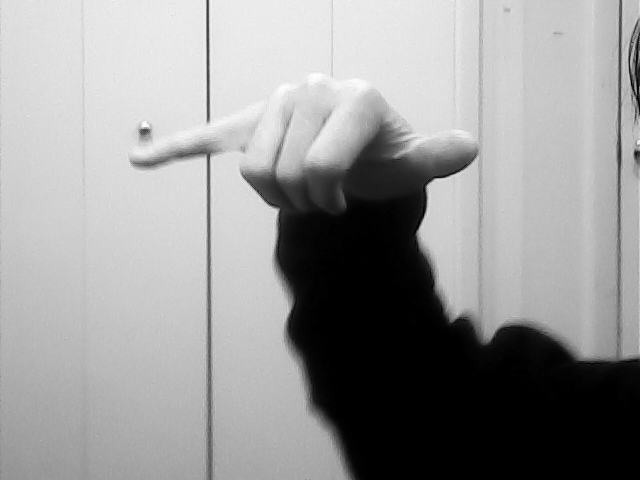aloha: (127, 70, 484, 221)
